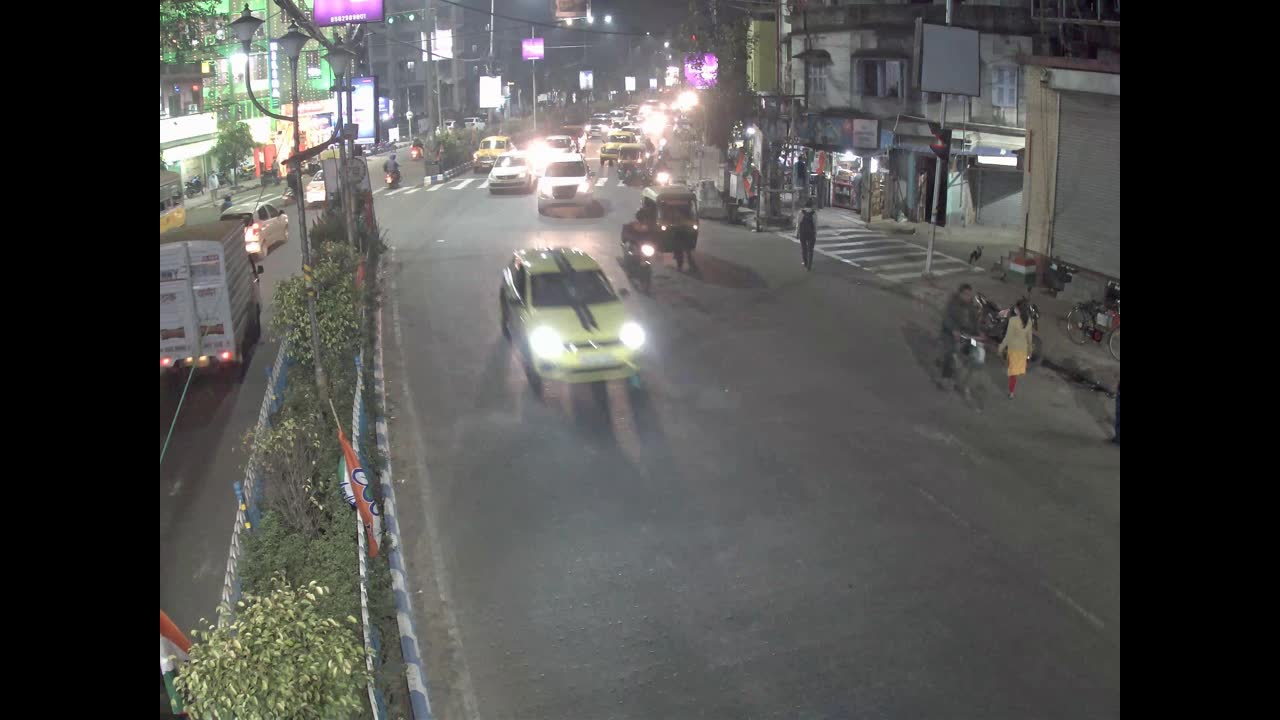auto-rickshaw: (643, 179, 702, 265), (614, 142, 646, 183)
bike: (612, 223, 663, 289)
car: (502, 244, 626, 378), (234, 200, 307, 252), (539, 157, 591, 213), (492, 146, 533, 197), (479, 125, 510, 156)
person: (788, 199, 823, 283), (1001, 303, 1031, 399), (939, 279, 978, 342)
